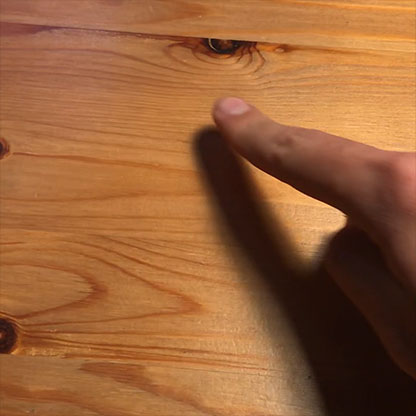fingertip: (211, 88, 263, 130)
